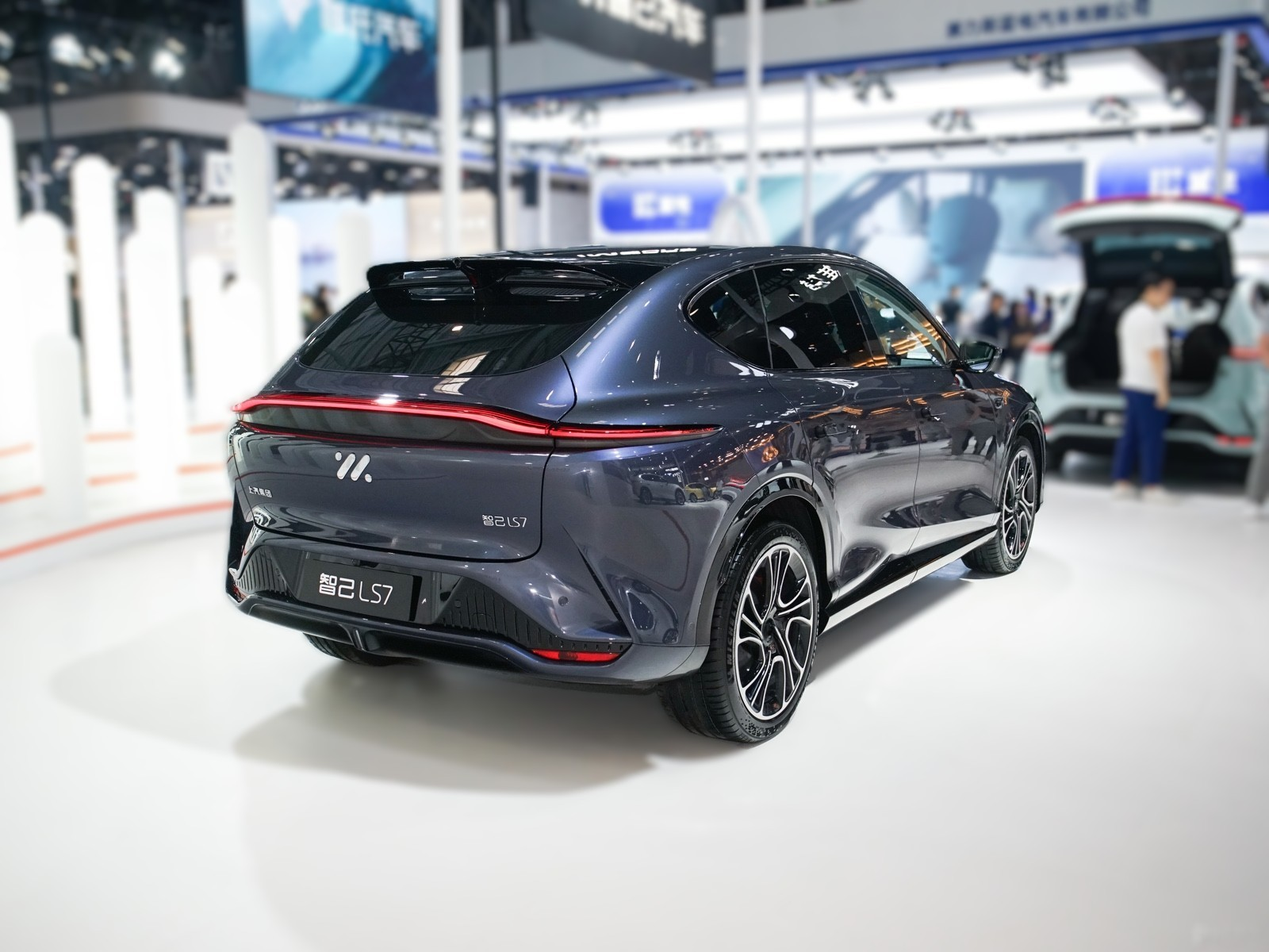IM: (335, 453, 371, 482)
